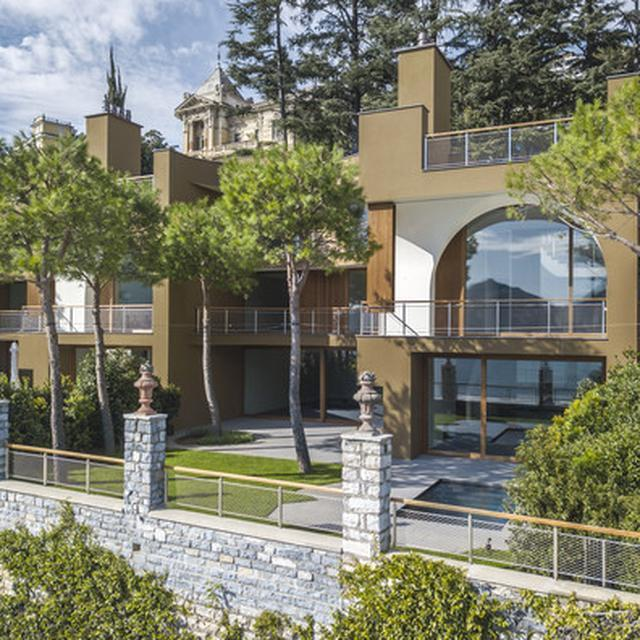building: (13, 75, 640, 465)
